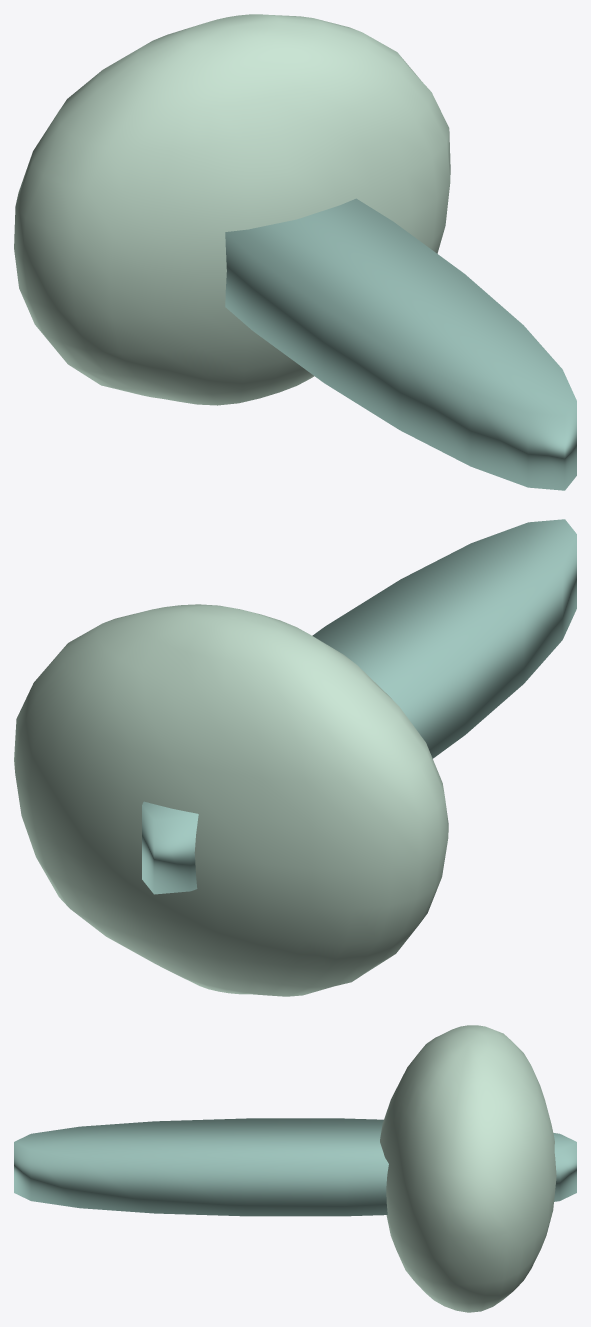
File: receptor_module.glb
3 renders of one model, top to bottom at view 1: azimuth 30°, elevation 25°; view 2: azimuth 150°, elevation 25°; view 3: azimuth 270°, elevation 25°, orthographic. The views are drawn at different scales.
Visible parts, largest first — view 1: Receptor_BindingHead, Receptor_Stalk; view 2: Receptor_BindingHead, Receptor_Stalk; view 3: Receptor_BindingHead, Receptor_Stalk.
Boxes of the visible parts, x1,y1,x2,y2 form: Receptor_BindingHead: (14,14,450,405); Receptor_Stalk: (225,198,576,490); Receptor_BindingHead: (14,604,448,996); Receptor_Stalk: (142,519,576,894); Receptor_BindingHead: (380,1025,556,1312); Receptor_Stalk: (14,1118,576,1216).
Bounding box in the file's own units: 0.1521 × 0.1277 × 0.26.
